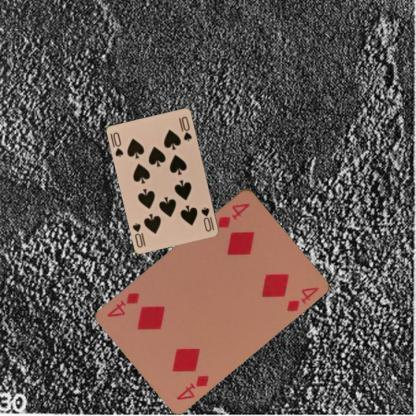10s: (198, 204, 216, 233), (110, 130, 125, 159)
4d: (215, 200, 252, 229), (174, 372, 210, 401)
